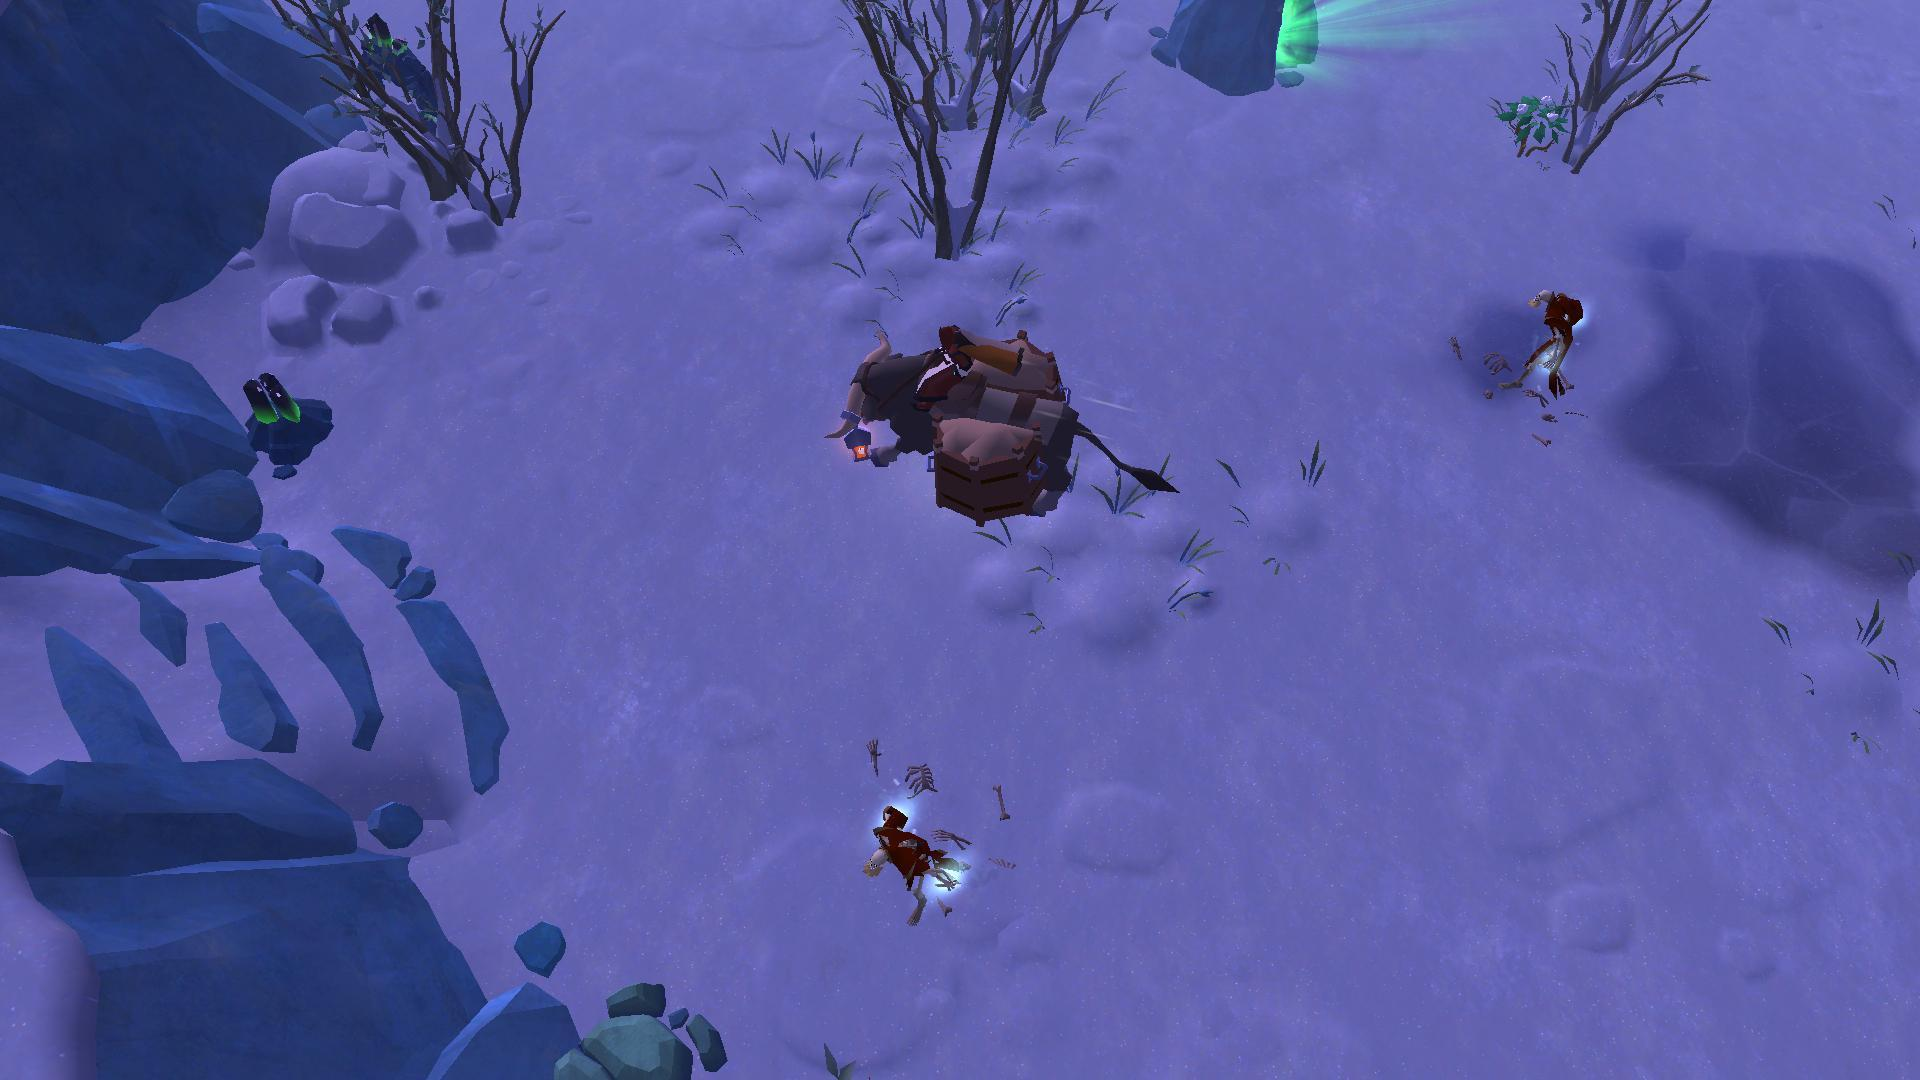enemy_factionUndead: (862, 791, 960, 920), (1519, 277, 1582, 404)
fiber_t3: (1486, 88, 1573, 164)
ore_t3: (232, 363, 305, 440)
